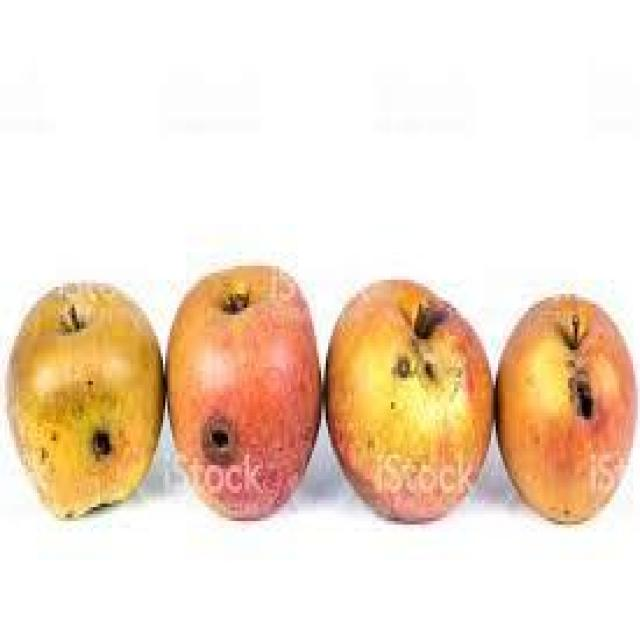maca: (324, 276, 494, 521), (163, 262, 321, 518), (5, 276, 163, 518), (494, 290, 636, 525)
